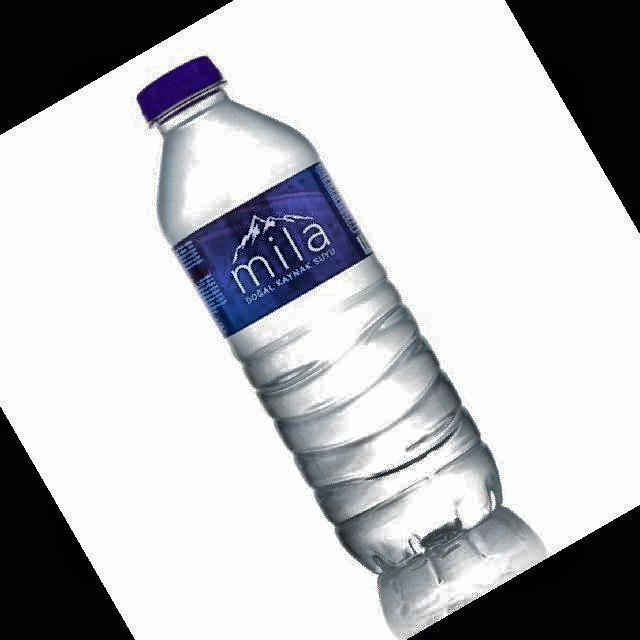plastic: (138, 58, 500, 572)
